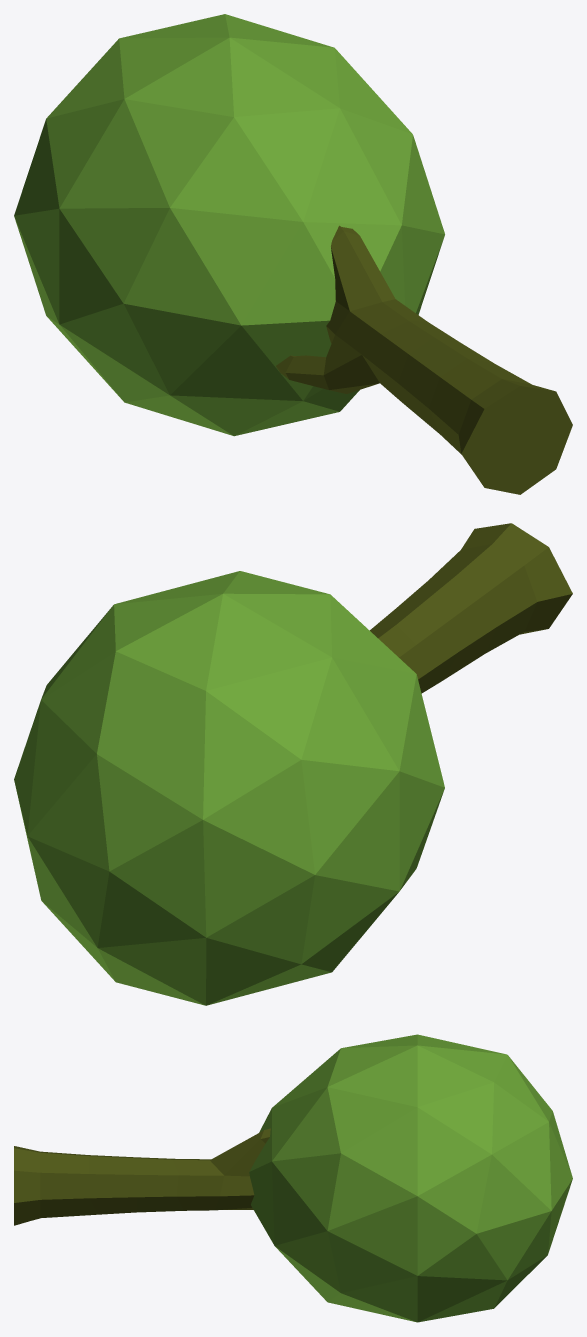
Rendered from OakTree_9.fbx.
3 renders of one model, top to bottom at view 1: azimuth 30°, elevation 25°; view 2: azimuth 150°, elevation 25°; view 3: azimuth 270°, elevation 25°, orthographic. The views are drawn at different scales.
Visible parts, largest first — view 1: OakTree_9; view 2: OakTree_9; view 3: OakTree_9.
Part boxes in pixels (x1,y1,x2,y2): OakTree_9: [14, 14, 572, 494]; OakTree_9: [14, 523, 572, 1005]; OakTree_9: [14, 1034, 572, 1322].
Bounding box in the file's own units: 460 × 484 × 923.
